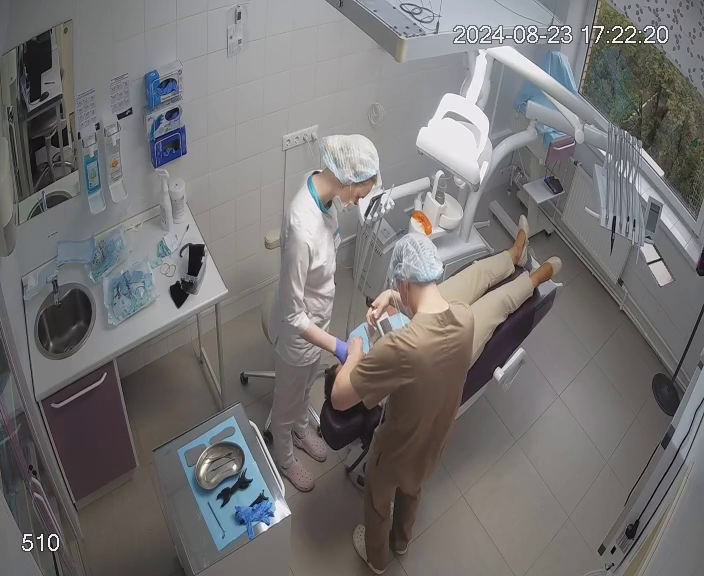Patient: (316, 210, 565, 454)
